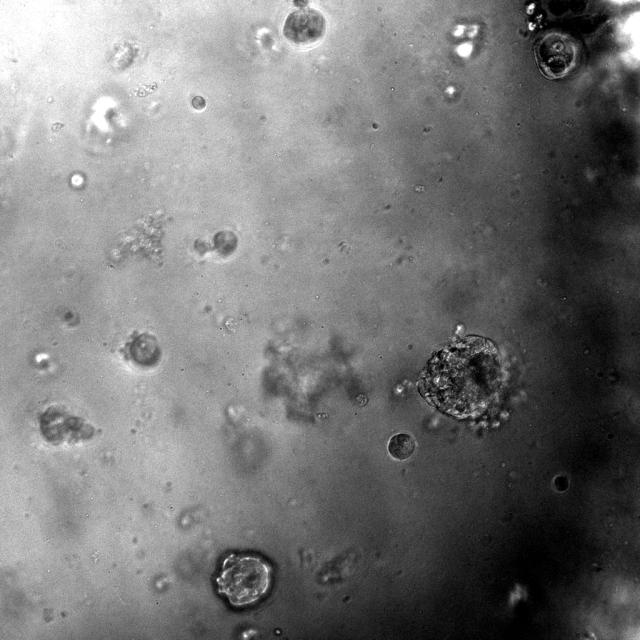organoid: (416, 334, 526, 433), (261, 317, 364, 421), (518, 0, 586, 80), (109, 210, 164, 265), (216, 554, 272, 606), (37, 403, 95, 445), (283, 0, 326, 48), (121, 331, 161, 368), (193, 229, 238, 257), (387, 431, 416, 461), (551, 473, 569, 493), (191, 95, 207, 111)
